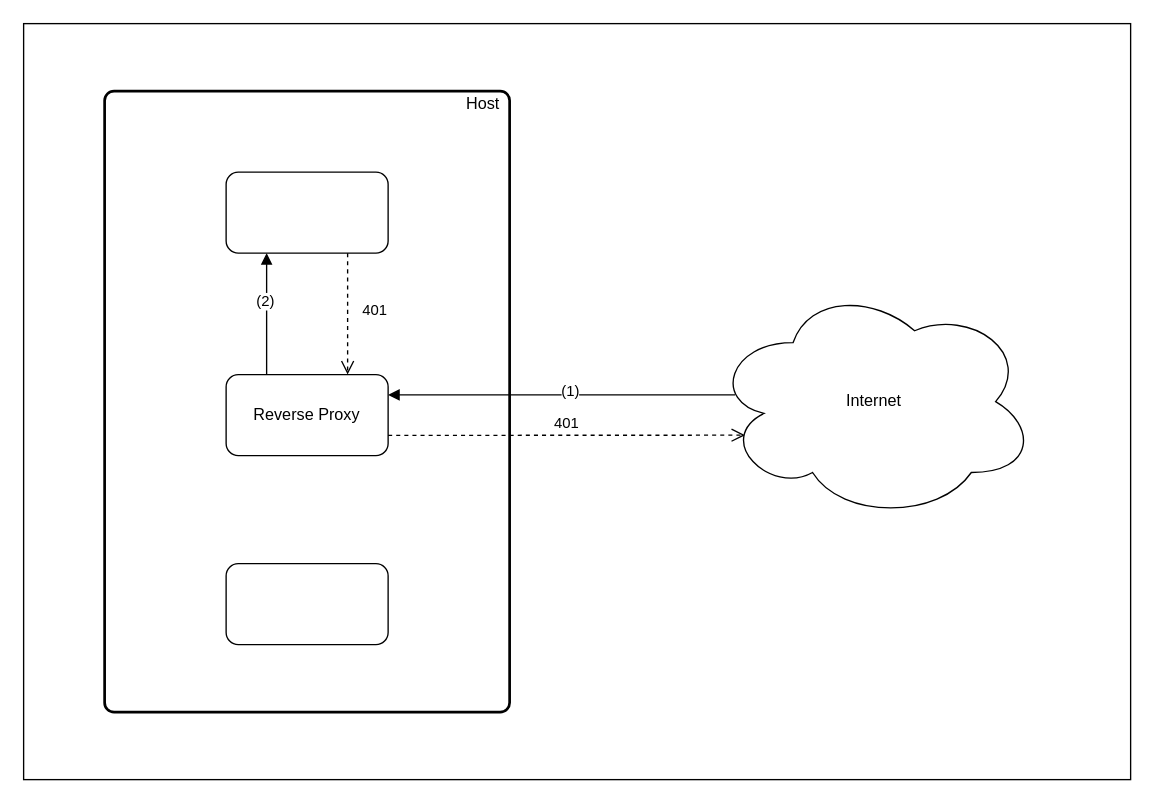
Some shapes in this 1154 by 803 pixel diagram are drawn without their labels. Here are the shapes that lost their labels. From the top down, the box of each, then its label:
(225, 171, 388, 253): Auth-baton (running on localhost)
(225, 562, 388, 645): Protected Service (running on localhost)
